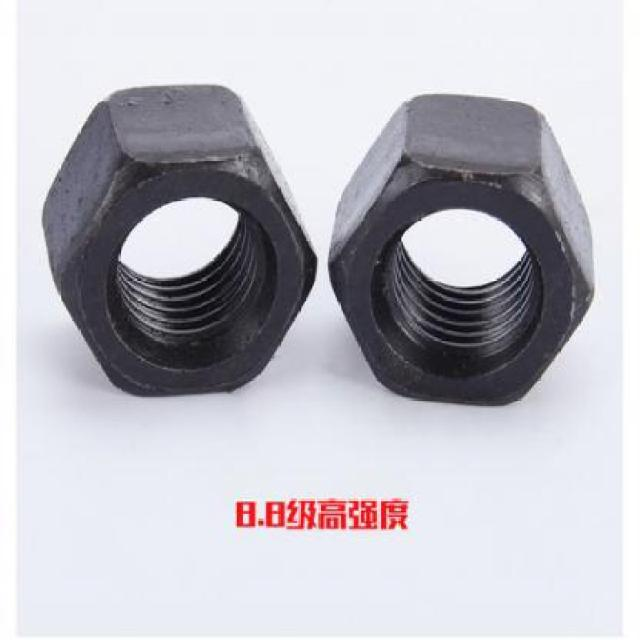Nut: (39, 82, 319, 398), (327, 93, 598, 410)
